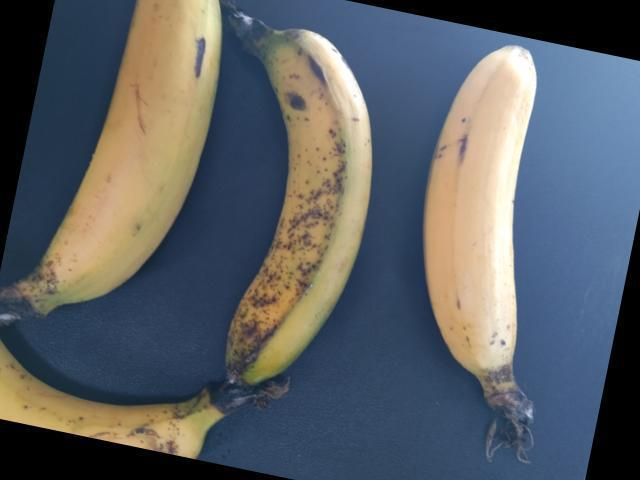freshripe: (415, 21, 538, 416)
ripe: (218, 11, 401, 393)
